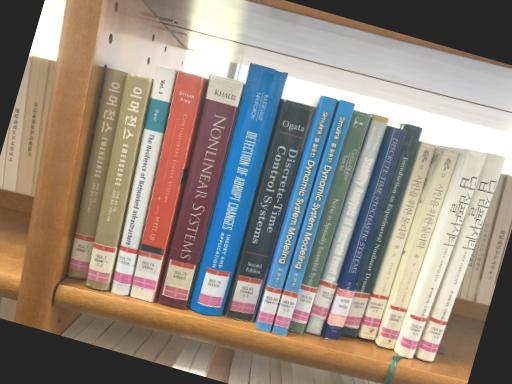book-spine: (189, 62, 287, 316), (226, 97, 315, 323), (272, 99, 355, 336), (161, 74, 244, 310), (255, 94, 337, 331), (397, 149, 485, 359), (306, 114, 388, 336), (289, 110, 370, 334), (418, 154, 505, 362), (324, 126, 405, 341), (342, 124, 421, 338), (130, 71, 203, 302), (378, 148, 459, 350), (359, 142, 436, 341), (112, 65, 177, 296), (85, 73, 151, 290), (69, 68, 127, 279)
